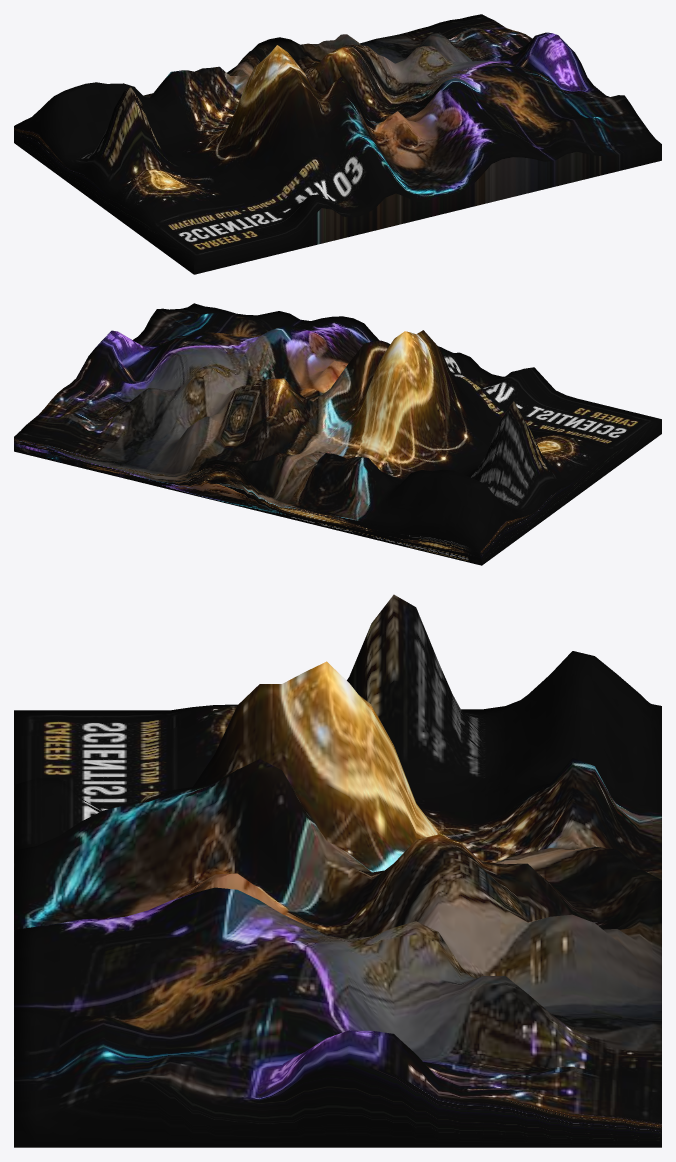
The model's file is CAREER_13_VFX_03_Invention.glb.
The picture shows the model from 3 angles, top to bottom: view 1: azimuth 30°, elevation 25°; view 2: azimuth 150°, elevation 25°; view 3: azimuth 270°, elevation 25°; orthographic projection. The views are drawn at different scales.
Visible parts, largest first — view 1: CAREER_13_VFX_03_Invention; view 2: CAREER_13_VFX_03_Invention; view 3: CAREER_13_VFX_03_Invention.
Part boxes in pixels (x1,y1,x2,y2): CAREER_13_VFX_03_Invention: [14, 14, 661, 274]; CAREER_13_VFX_03_Invention: [14, 303, 661, 565]; CAREER_13_VFX_03_Invention: [14, 594, 661, 1147].
Bounding box in the file's own units: 2 × 0.51 × 1.33.
Materials: 1 (1 with a texture image).
